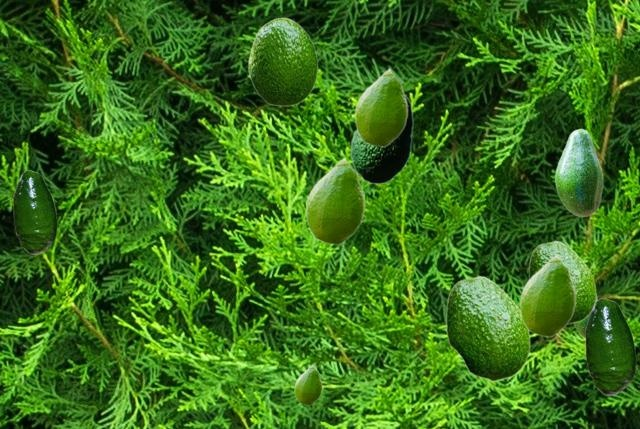avocado: (445, 275, 529, 380), (248, 17, 317, 105), (528, 240, 595, 323), (350, 94, 412, 183), (305, 156, 364, 244), (585, 298, 635, 394), (519, 253, 575, 336), (554, 128, 602, 216), (354, 67, 407, 146), (13, 170, 56, 253), (573, 292, 597, 338), (294, 364, 321, 404)
